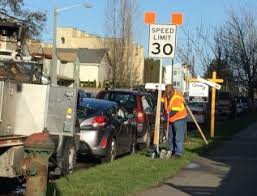speedLimit30: (148, 21, 178, 58)
